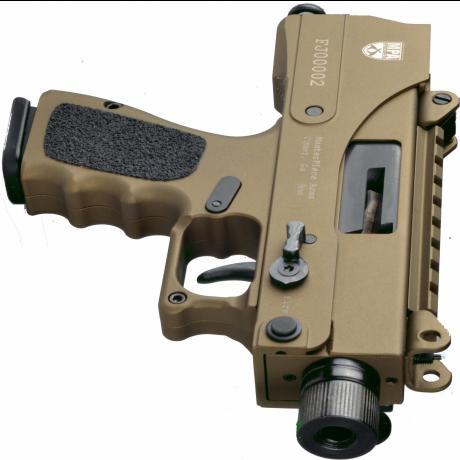weapon: (3, 9, 454, 451)
